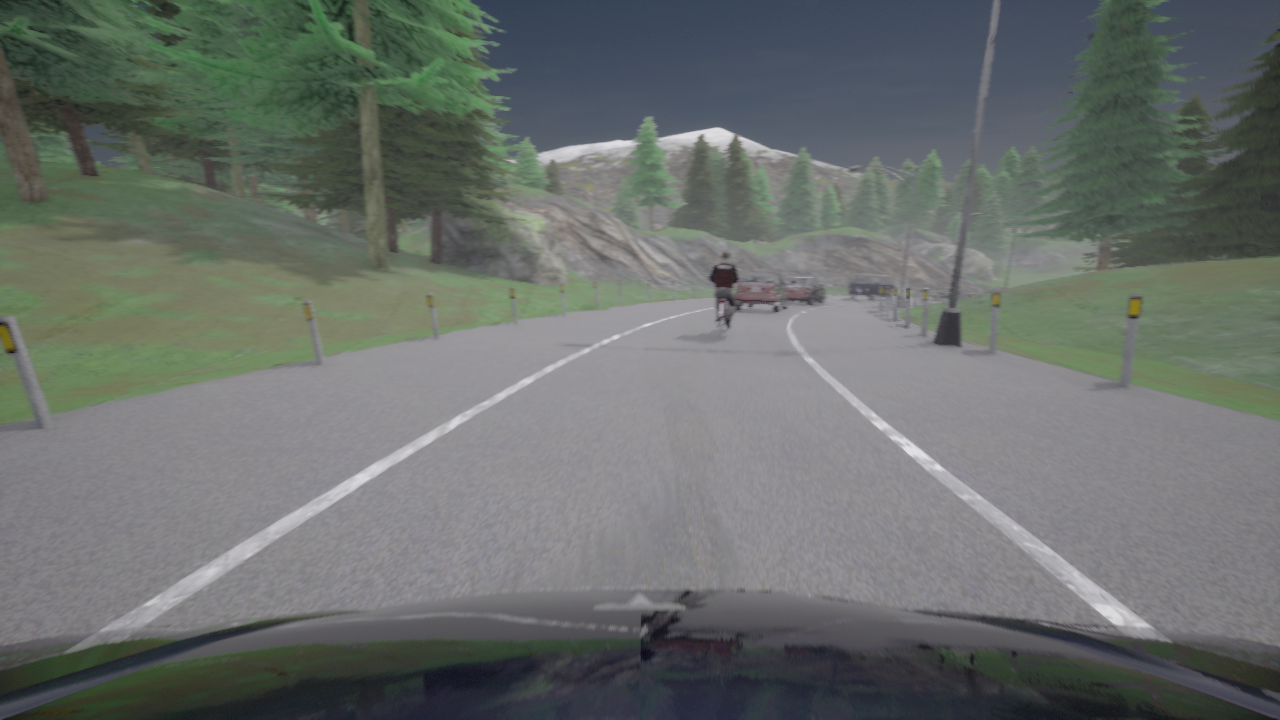cyclist: (0, 588, 1279, 719), (734, 271, 788, 312), (848, 273, 895, 300), (784, 276, 825, 304), (930, 287, 977, 299), (717, 299, 727, 339), (984, 288, 1003, 292)
